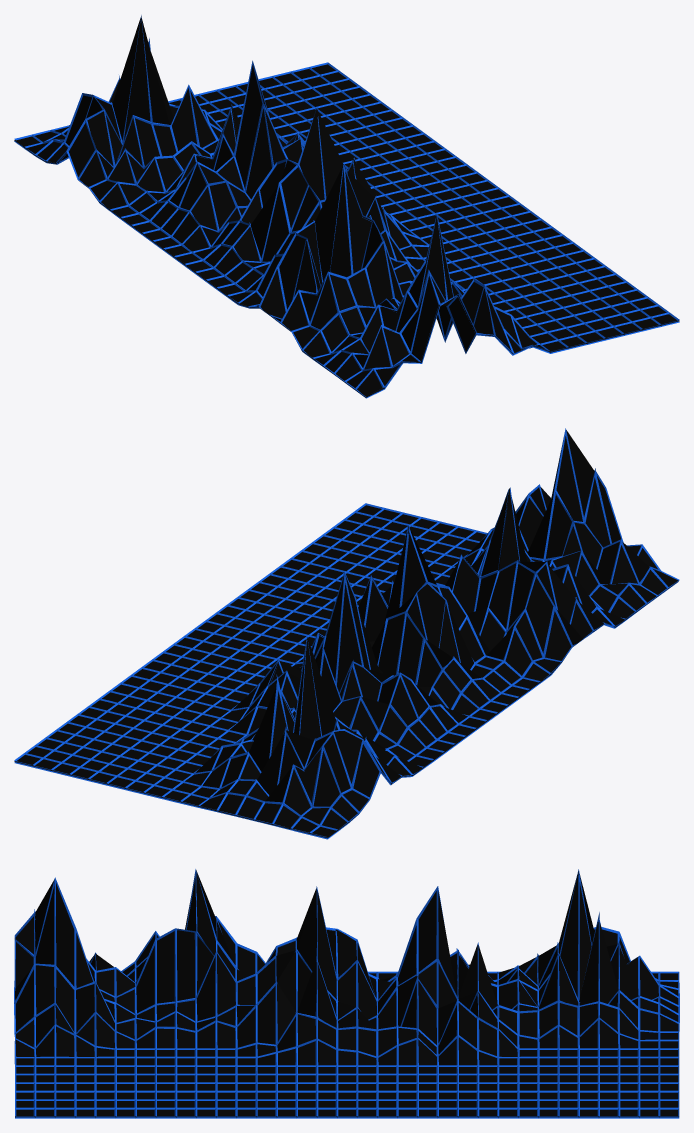
Rendered from gory1.fbx.
The picture shows the model from 3 angles, top to bottom: view 1: azimuth 30°, elevation 25°; view 2: azimuth 150°, elevation 25°; view 3: azimuth 270°, elevation 25°; orthographic projection. The views are drawn at different scales.
Parts seen in each view (by area): view 1: Plane; view 2: Plane; view 3: Plane.
Part boxes in pixels (box(x1,y1,x2,y2)): Plane: box(14, 15, 679, 398); Plane: box(14, 428, 679, 839); Plane: box(14, 869, 679, 1118).
Bounding box in the file's own units: 2685 × 1206 × 5209.
